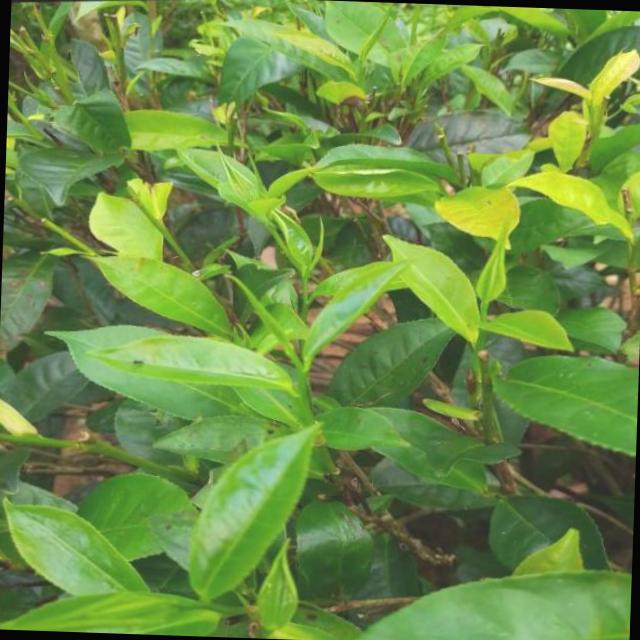Stem: (299, 372, 306, 382), (302, 301, 309, 306), (479, 333, 484, 340)
